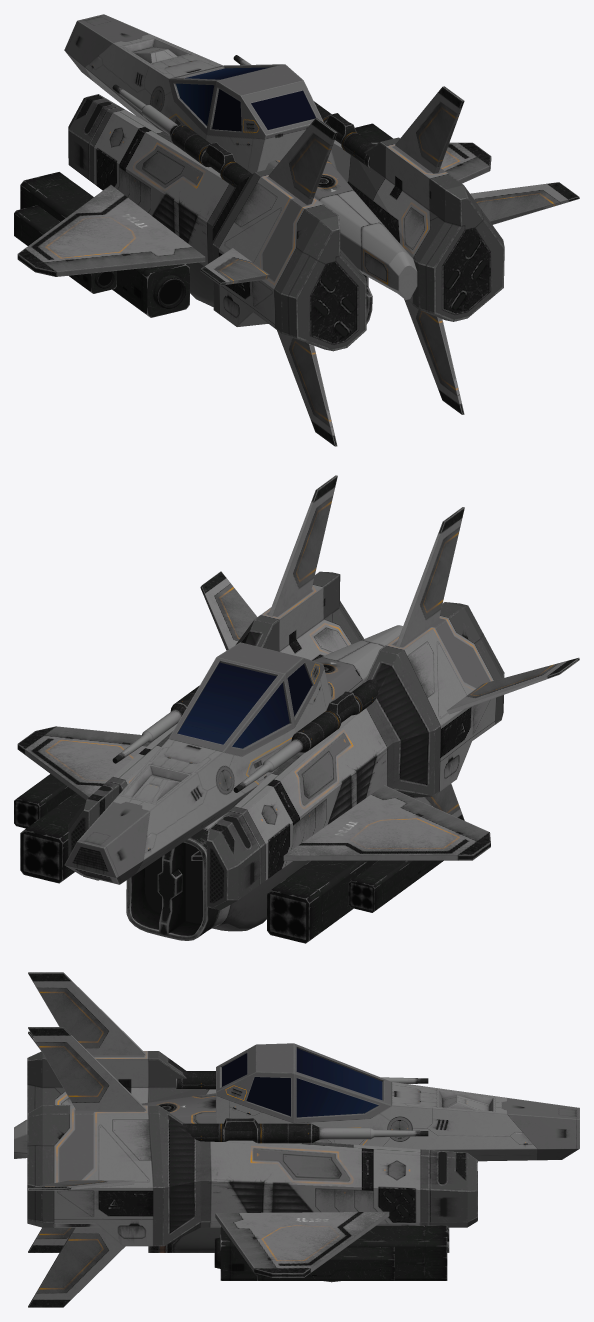
Rendered from battleship5.gltf.
The picture shows the model from 3 angles, top to bottom: view 1: azimuth 30°, elevation 25°; view 2: azimuth 150°, elevation 25°; view 3: azimuth 270°, elevation 25°; orthographic projection. The views are drawn at different scales.
Parts seen in each view (by area): view 1: MainBody13, Cockpit3_WithoutInterior, MainBody13_Mirrored, Wing6, MainBody2, Big_Launcher (2), Wing2_Mirrored (1), Wing2 (1), Blaster (1), Wing2 (2), Wing2_Mirrored, Wing2_Mirrored (2) (+5 smaller); view 2: MainBody13, Cockpit3_WithoutInterior, Wing6, Engine1, MainBody13_Mirrored, Big_Launcher (2), Wing6_Mirrored, Big_Launcher, Wing2_Mirrored (1), Wing2 (1), Blaster (1), Big_Launcher (3) (+6 smaller); view 3: MainBody13_Mirrored, Cockpit3_WithoutInterior, Wing6_Mirrored, Big_Launcher, MainBody13, Wing2_Mirrored (1), Wing2 (1), Wing2_Mirrored (2), Blaster, Big_Launcher (1), MainBody2, Engine1 (+3 smaller).
Part boxes in pixels (x1,y1,x2,y2): MainBody13: (68,94,366,351); Cockpit3_WithoutInterior: (64,14,336,173); MainBody13_Mirrored: (331,137,504,321); Wing6: (17,185,205,276); MainBody2: (265,159,417,299); Big_Launcher (2): (20,172,189,317); Wing2_Mirrored (1): (395,86,464,173); Wing2 (1): (268,118,337,204); Blaster (1): (112,84,251,187); Wing2 (2): (277,330,337,446); Wing2_Mirrored: (470,182,579,224); Wing2_Mirrored (2): (404,299,464,414); MainBody13: (207,602,504,910); Cockpit3_WithoutInterior: (64,642,332,884); Wing6: (191,785,490,860); Engine1: (126,814,310,940); MainBody13_Mirrored: (68,571,363,880); Big_Launcher (2): (267,805,432,943); Wing6_Mirrored: (17,726,151,799); Big_Launcher: (20,792,85,883); Wing2_Mirrored (1): (268,475,337,616); Wing2 (1): (395,507,464,647); Blaster (1): (233,679,378,792); Big_Launcher (3): (348,860,443,912); MainBody13_Mirrored: (27,1105,477,1246); Cockpit3_WithoutInterior: (216,1043,579,1161); Wing6_Mirrored: (215,1211,389,1277); Big_Launcher: (214,1225,447,1280); MainBody13: (27,1051,477,1162); Wing2_Mirrored (1): (28,1027,146,1110); Wing2 (1): (28,972,145,1055); Wing2_Mirrored (2): (28,1227,125,1307); Blaster: (182,1118,428,1143); Big_Launcher (1): (253,1247,394,1280); MainBody2: (14,1093,215,1158); Engine1: (148,1227,449,1282).
Size of the model in its own units: 7.43 by 4.9 by 8.96.
Materials: 9 (9 with a texture image).
